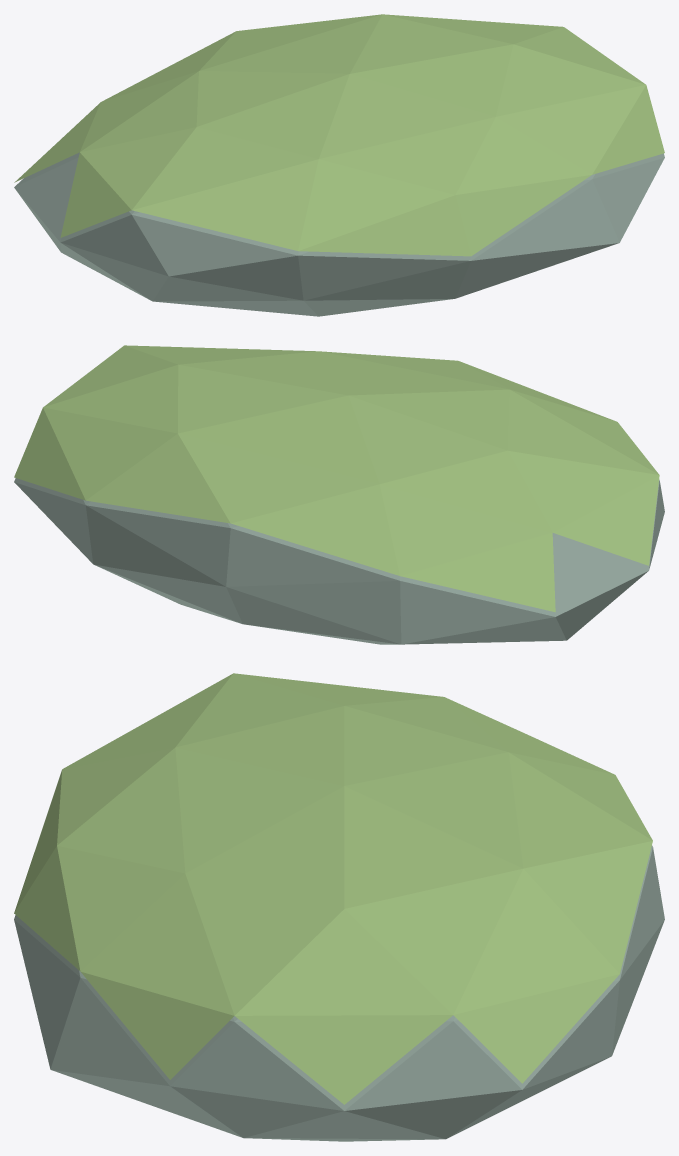
Rendered from rock-flat-mossy.glb.
3 views of the same model, one above another, from view 1: azimuth 30°, elevation 25°; view 2: azimuth 150°, elevation 25°; view 3: azimuth 270°, elevation 25° (orthographic). The views are drawn at different scales.
Visible parts, largest first — view 1: rock-flat-kit-mossy-top, rock-flat-kit-mossy-stone; view 2: rock-flat-kit-mossy-top, rock-flat-kit-mossy-stone; view 3: rock-flat-kit-mossy-top, rock-flat-kit-mossy-stone.
Boxes of the visible parts, x1,y1,x2,y2 form: rock-flat-kit-mossy-top: (14,14,664,256); rock-flat-kit-mossy-stone: (14,152,664,316); rock-flat-kit-mossy-top: (14,345,659,612); rock-flat-kit-mossy-stone: (14,478,664,644); rock-flat-kit-mossy-top: (14,673,652,1104); rock-flat-kit-mossy-stone: (14,845,664,1141).
Size of the model in its own units: 2.02 by 0.612 by 1.45.
